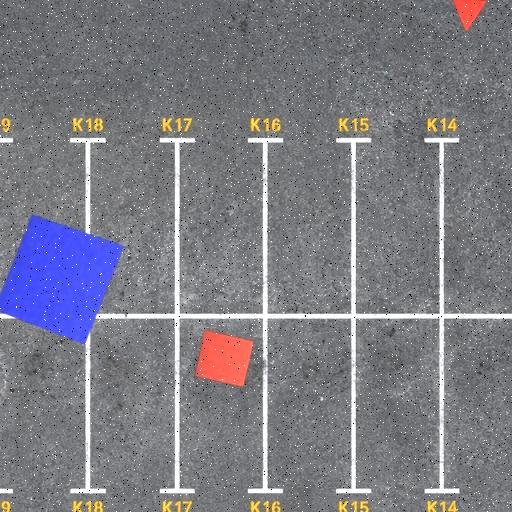BLUE_SQUARE: (0, 214, 125, 344)
RED_SQUARE: (194, 330, 256, 388)
